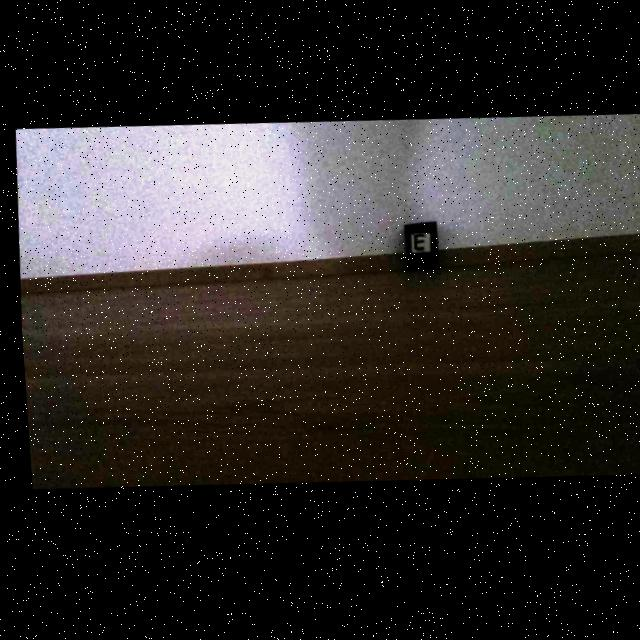E: (411, 239, 421, 255)
